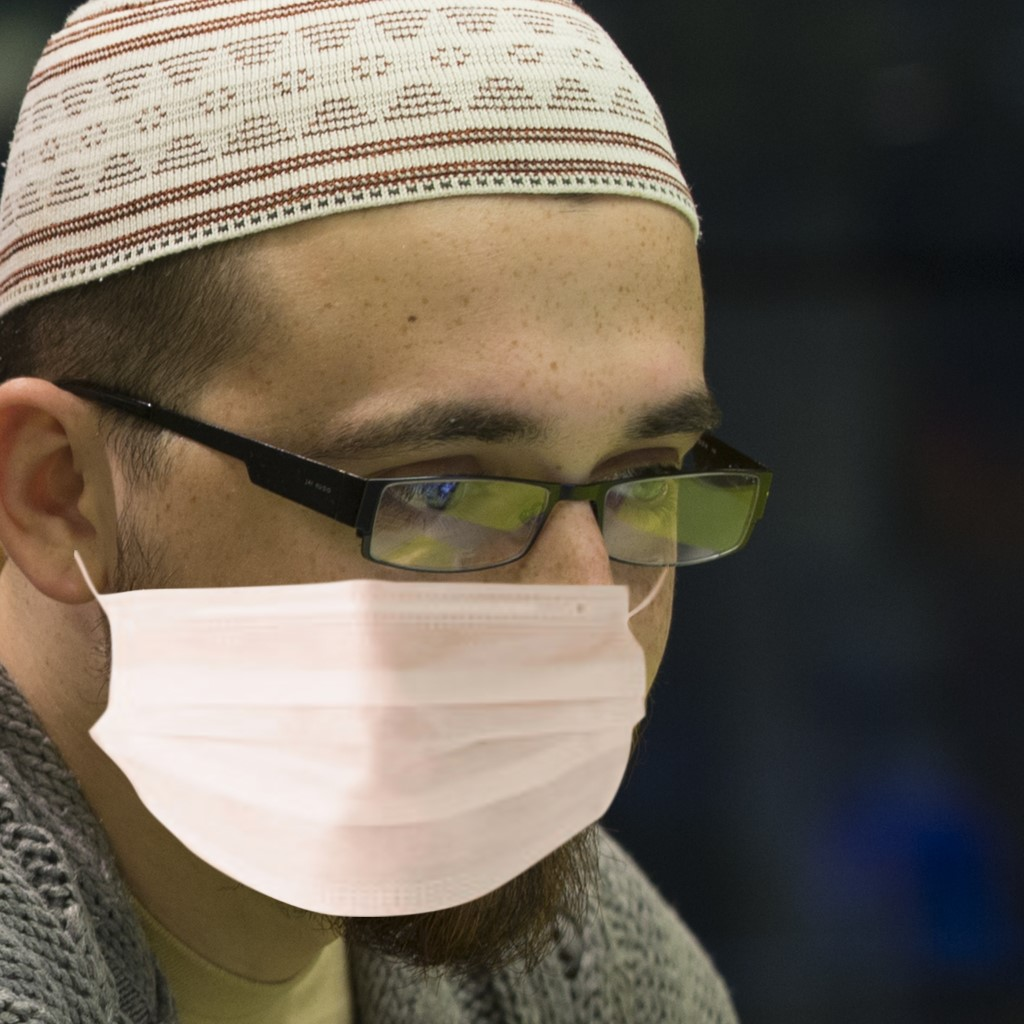con_mascara: (56, 83, 716, 932)
